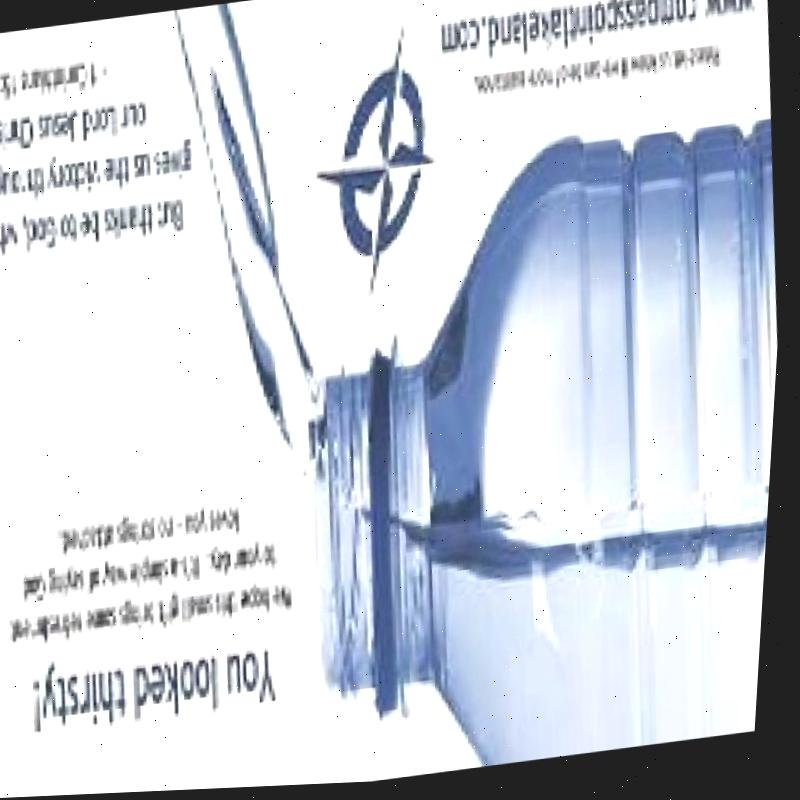botella: (282, 116, 793, 789)
